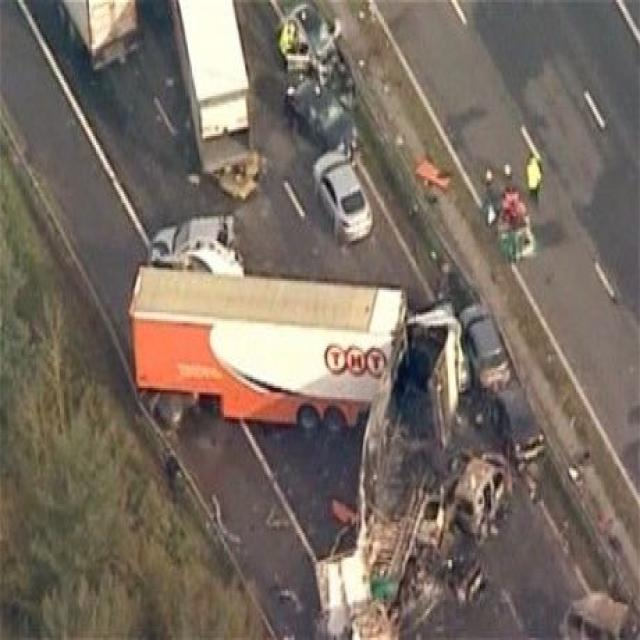traffic_incident: (135, 256, 472, 598)
